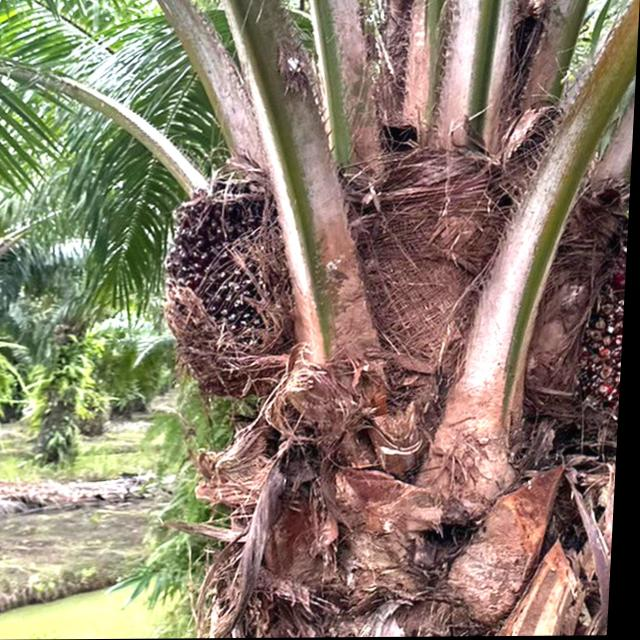ripe: (155, 172, 310, 394)
